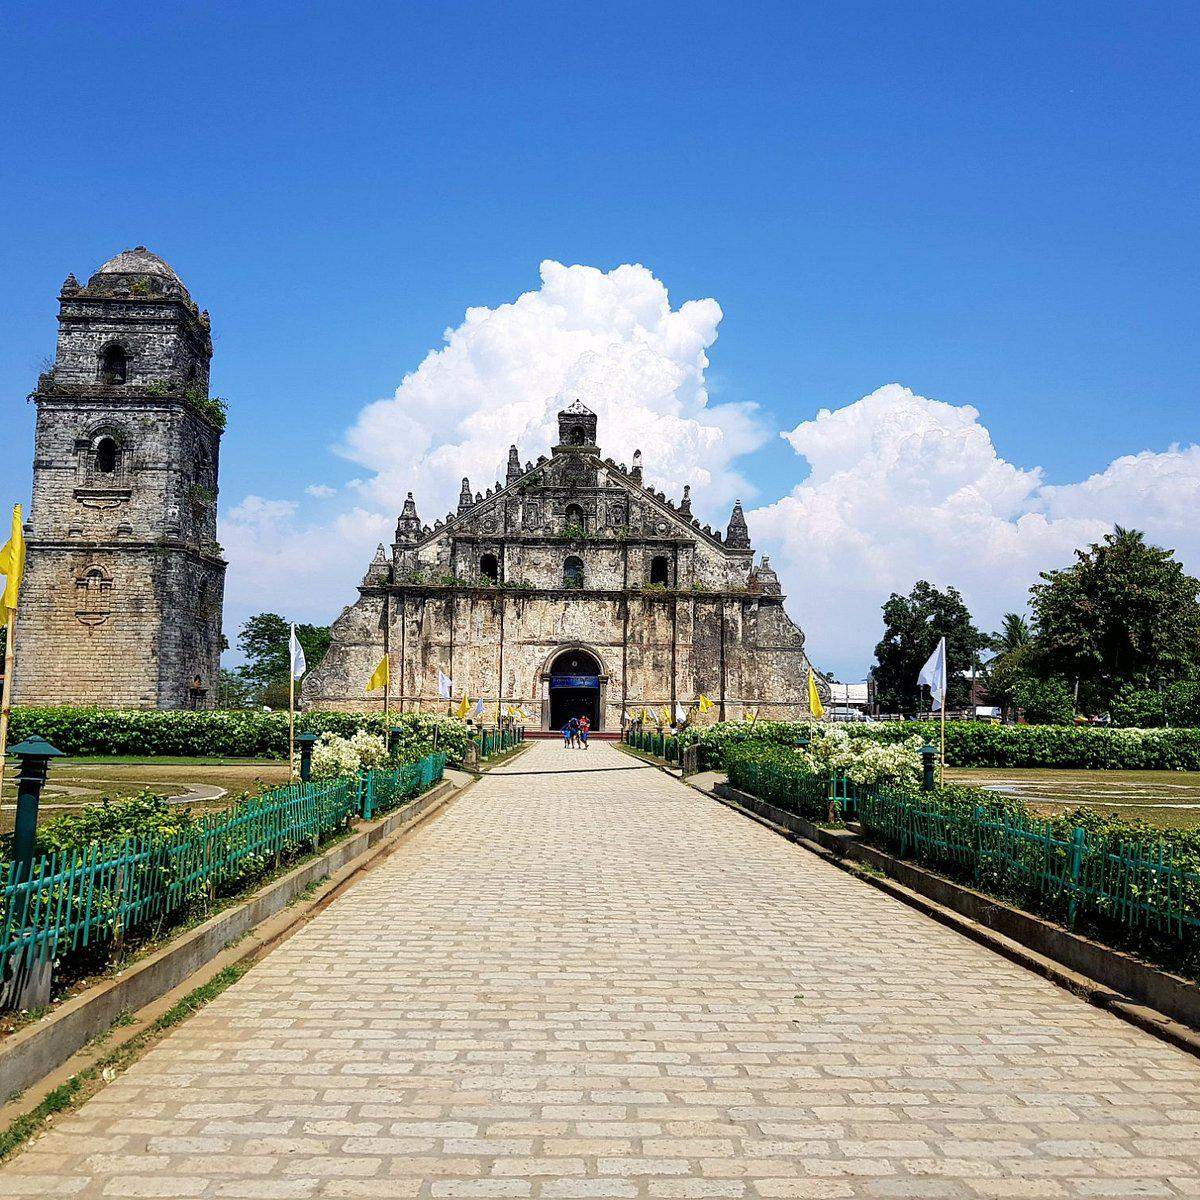Environmental Damage: (164, 384, 233, 431), (426, 570, 534, 600), (629, 573, 710, 607), (549, 521, 595, 551)
Paoay Church: (8, 224, 838, 729)
